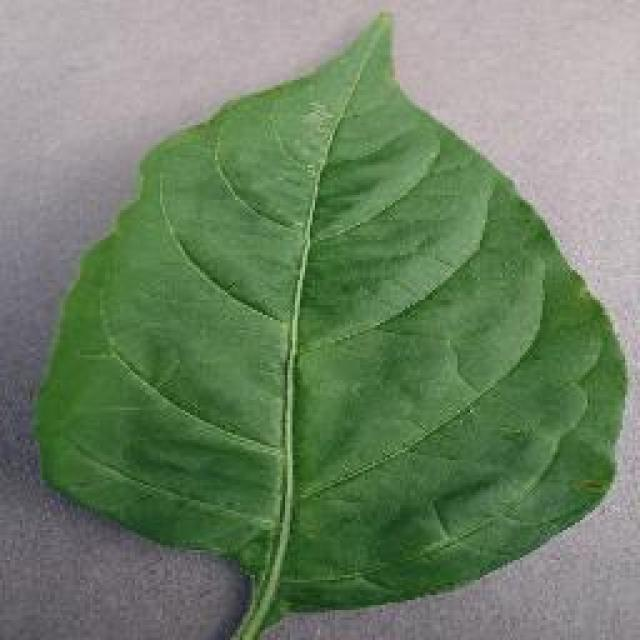Chilli_Healthy: (30, 10, 628, 638)
